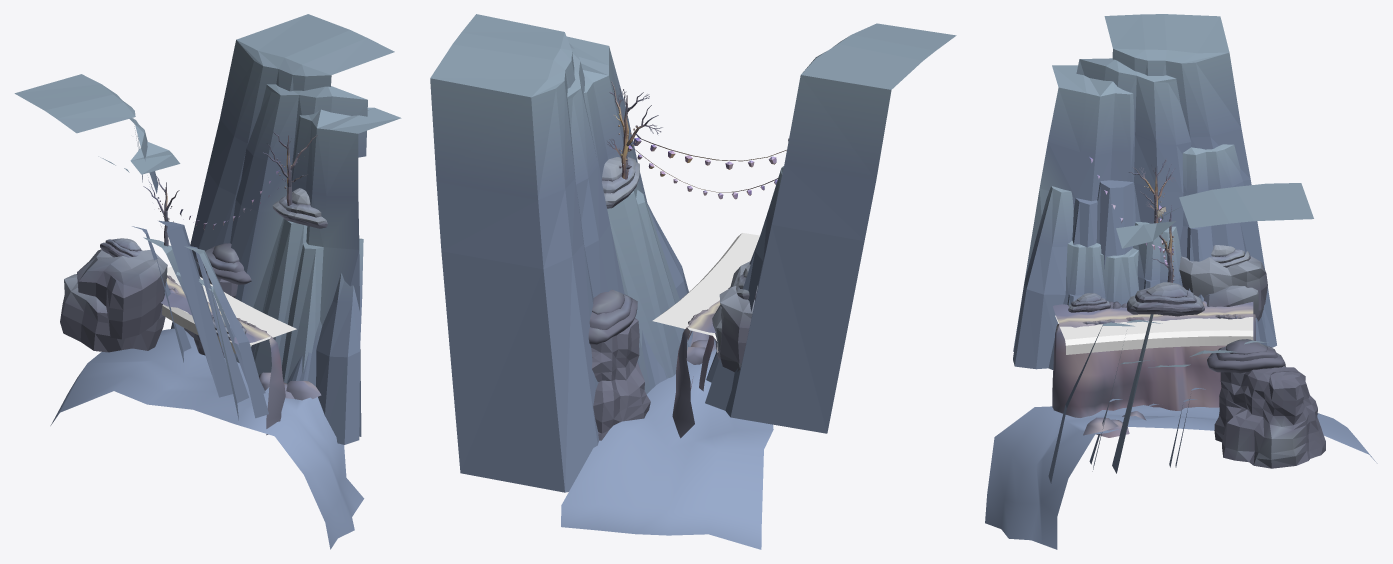
The model's file is Arctic_Narrows_Right_Curve_Left_10_A.glb.
3 views of the same model, side by side, from view 1: azimuth 30°, elevation 25°; view 2: azimuth 150°, elevation 25°; view 3: azimuth 270°, elevation 25° (orthographic). The views are drawn at different scales.
Visible parts, largest first — view 1: Arctic_Narrows_Left_IceWall_A01 (1), Arctic_Narrows_Right_Curve_Left_10_A, Arctic_Narrows_Right_IceWall_A02 (1), Arctic_Narrows_Left_IceWall_A01_Right, Arctic_Narrows_SnowRock_A01, Arctic_Narrows_SnowRock_A01 (1), Arctic_Narrows_Right_IceWall_A02_Left, inv_fill, Arctic_Narrows_Right_IceWall_A02_Right, Arctic_Narrows_Right_Snow_A01 (4), Arctic_Narrows_Right_IceWall_A02_Mid; view 2: Arctic_Narrows_Left_IceWall_A01 (1), Arctic_Narrows_Right_IceWall_A02 (1), Arctic_Narrows_Right_Curve_Left_10_A, inv_fill, Arctic_Narrows_Right_IceWall_A02_Right, Arctic_Narrows_SnowRock_A01, Arctic_Narrows_Big_Rock_A01_Mid, Arctic_Narrows_Left_IceWall_A01_Right, Arctic_Narrows_Big_Rock_A01 (1), Arctic_Narrows_Big_Rock_A01_Top, Arctic_Narrows_Left_Snow_A01 (2), Arctic_Narrows_Left_Snow_A01_Mid; view 3: Arctic_Narrows_Right_IceWall_A02 (1), Arctic_Narrows_Right_Curve_Left_10_A, Arctic_Narrows_Right_IceWall_A02_Left, Arctic_Narrows_Left_IceWall_A01 (1), inv_fill, Arctic_Narrows_Right_IceWall_A02_Right, Arctic_Narrows_Big_Rock_A01 (1), Arctic_Narrows_Right_IceWall_A02_Mid, Arctic_Narrows_Big_Rock_A01_Mid, Arctic_Narrows_SnowRock_A01, Arctic_Narrows_Big_Rock_A01_Top, Arctic_Narrows_Right_Snow_A01 (4) (+7 smaller).
Part boxes in pixels (bbox=[...]): Arctic_Narrows_Left_IceWall_A01 (1): bbox=[171, 14, 401, 436]; Arctic_Narrows_Right_Curve_Left_10_A: bbox=[50, 277, 364, 549]; Arctic_Narrows_Right_IceWall_A02 (1): bbox=[14, 74, 248, 420]; Arctic_Narrows_Left_IceWall_A01_Right: bbox=[251, 238, 363, 444]; Arctic_Narrows_SnowRock_A01: bbox=[77, 249, 167, 339]; Arctic_Narrows_SnowRock_A01 (1): bbox=[60, 274, 165, 352]; Arctic_Narrows_Right_IceWall_A02_Left: bbox=[184, 246, 268, 418]; inv_fill: bbox=[162, 266, 296, 353]; Arctic_Narrows_Right_IceWall_A02_Right: bbox=[98, 156, 191, 362]; Arctic_Narrows_Right_Snow_A01 (4): bbox=[272, 201, 327, 228]; Arctic_Narrows_Right_IceWall_A02_Mid: bbox=[143, 237, 211, 374]; Arctic_Narrows_Left_IceWall_A01 (1): bbox=[430, 14, 688, 492]; Arctic_Narrows_Right_IceWall_A02 (1): bbox=[725, 23, 956, 433]; Arctic_Narrows_Right_Curve_Left_10_A: bbox=[561, 287, 773, 549]; inv_fill: bbox=[652, 233, 759, 352]; Arctic_Narrows_Right_IceWall_A02_Right: bbox=[705, 166, 783, 410]; Arctic_Narrows_SnowRock_A01: bbox=[719, 261, 754, 363]; Arctic_Narrows_Big_Rock_A01_Mid: bbox=[591, 345, 644, 405]; Arctic_Narrows_Left_IceWall_A01_Right: bbox=[642, 204, 693, 389]; Arctic_Narrows_Big_Rock_A01 (1): bbox=[593, 382, 650, 440]; Arctic_Narrows_Big_Rock_A01_Top: bbox=[590, 318, 639, 362]; Arctic_Narrows_Left_Snow_A01 (2): bbox=[588, 298, 637, 344]; Arctic_Narrows_Left_Snow_A01_Mid: bbox=[589, 294, 632, 329]; Arctic_Narrows_Right_IceWall_A02 (1): bbox=[1013, 14, 1276, 351]; Arctic_Narrows_Right_Curve_Left_10_A: bbox=[985, 301, 1377, 549]; Arctic_Narrows_Right_IceWall_A02_Left: bbox=[1013, 186, 1105, 369]; Arctic_Narrows_Left_IceWall_A01 (1): bbox=[1092, 183, 1313, 473]; inv_fill: bbox=[1055, 315, 1253, 354]; Arctic_Narrows_Right_IceWall_A02_Right: bbox=[1179, 144, 1267, 345]; Arctic_Narrows_Big_Rock_A01 (1): bbox=[1214, 412, 1325, 468]; Arctic_Narrows_Right_IceWall_A02_Mid: bbox=[1100, 222, 1182, 305]; Arctic_Narrows_Big_Rock_A01_Mid: bbox=[1219, 387, 1320, 438]; Arctic_Narrows_SnowRock_A01: bbox=[1179, 256, 1267, 310]; Arctic_Narrows_Big_Rock_A01_Top: bbox=[1220, 366, 1309, 408]; Arctic_Narrows_Right_Snow_A01 (4): bbox=[1126, 295, 1204, 316].
Bounding box in the file's own units: 23.18 × 25.47 × 21.91.
